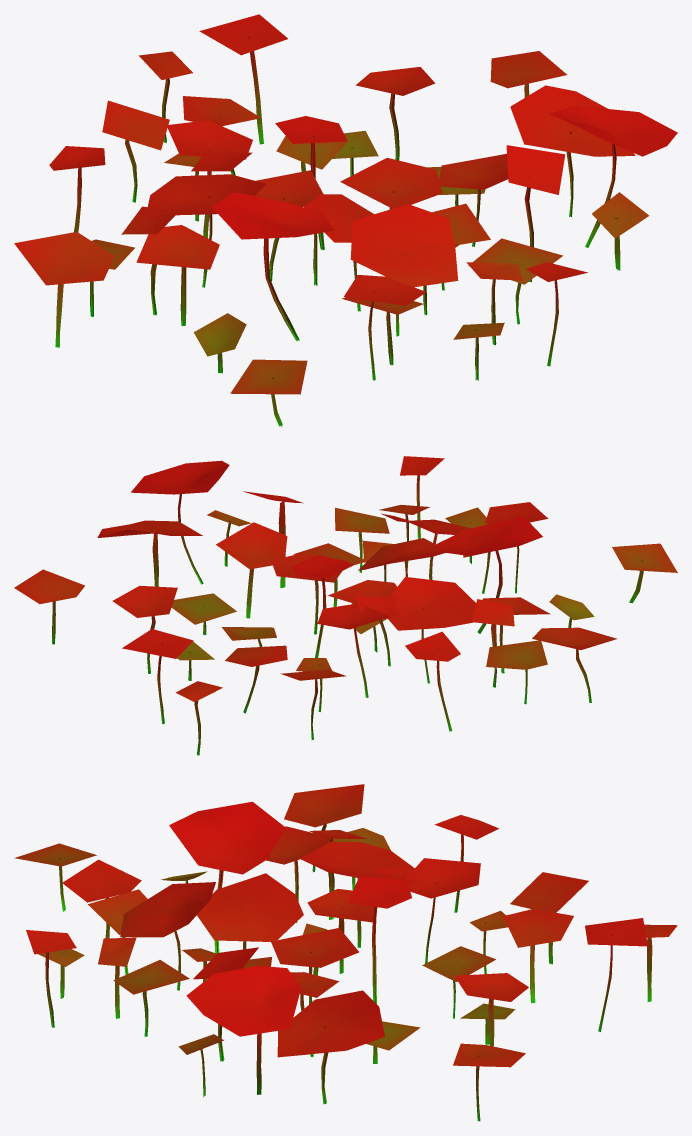
The model's file is Var2_LOD0.fbx.
The picture shows the model from 3 angles, top to bottom: view 1: azimuth 30°, elevation 25°; view 2: azimuth 150°, elevation 25°; view 3: azimuth 270°, elevation 25°; orthographic projection. The views are drawn at different scales.
Parts seen in each view (by area): view 1: _3072_Var2_LOD0; view 2: _3072_Var2_LOD0; view 3: _3072_Var2_LOD0.
Part boxes in pixels (x1,y1,x2,y2): _3072_Var2_LOD0: (14, 14, 677, 426); _3072_Var2_LOD0: (14, 456, 677, 755); _3072_Var2_LOD0: (14, 784, 677, 1121).
Bounding box in the file's own units: 45 × 9.64 × 46.22.
